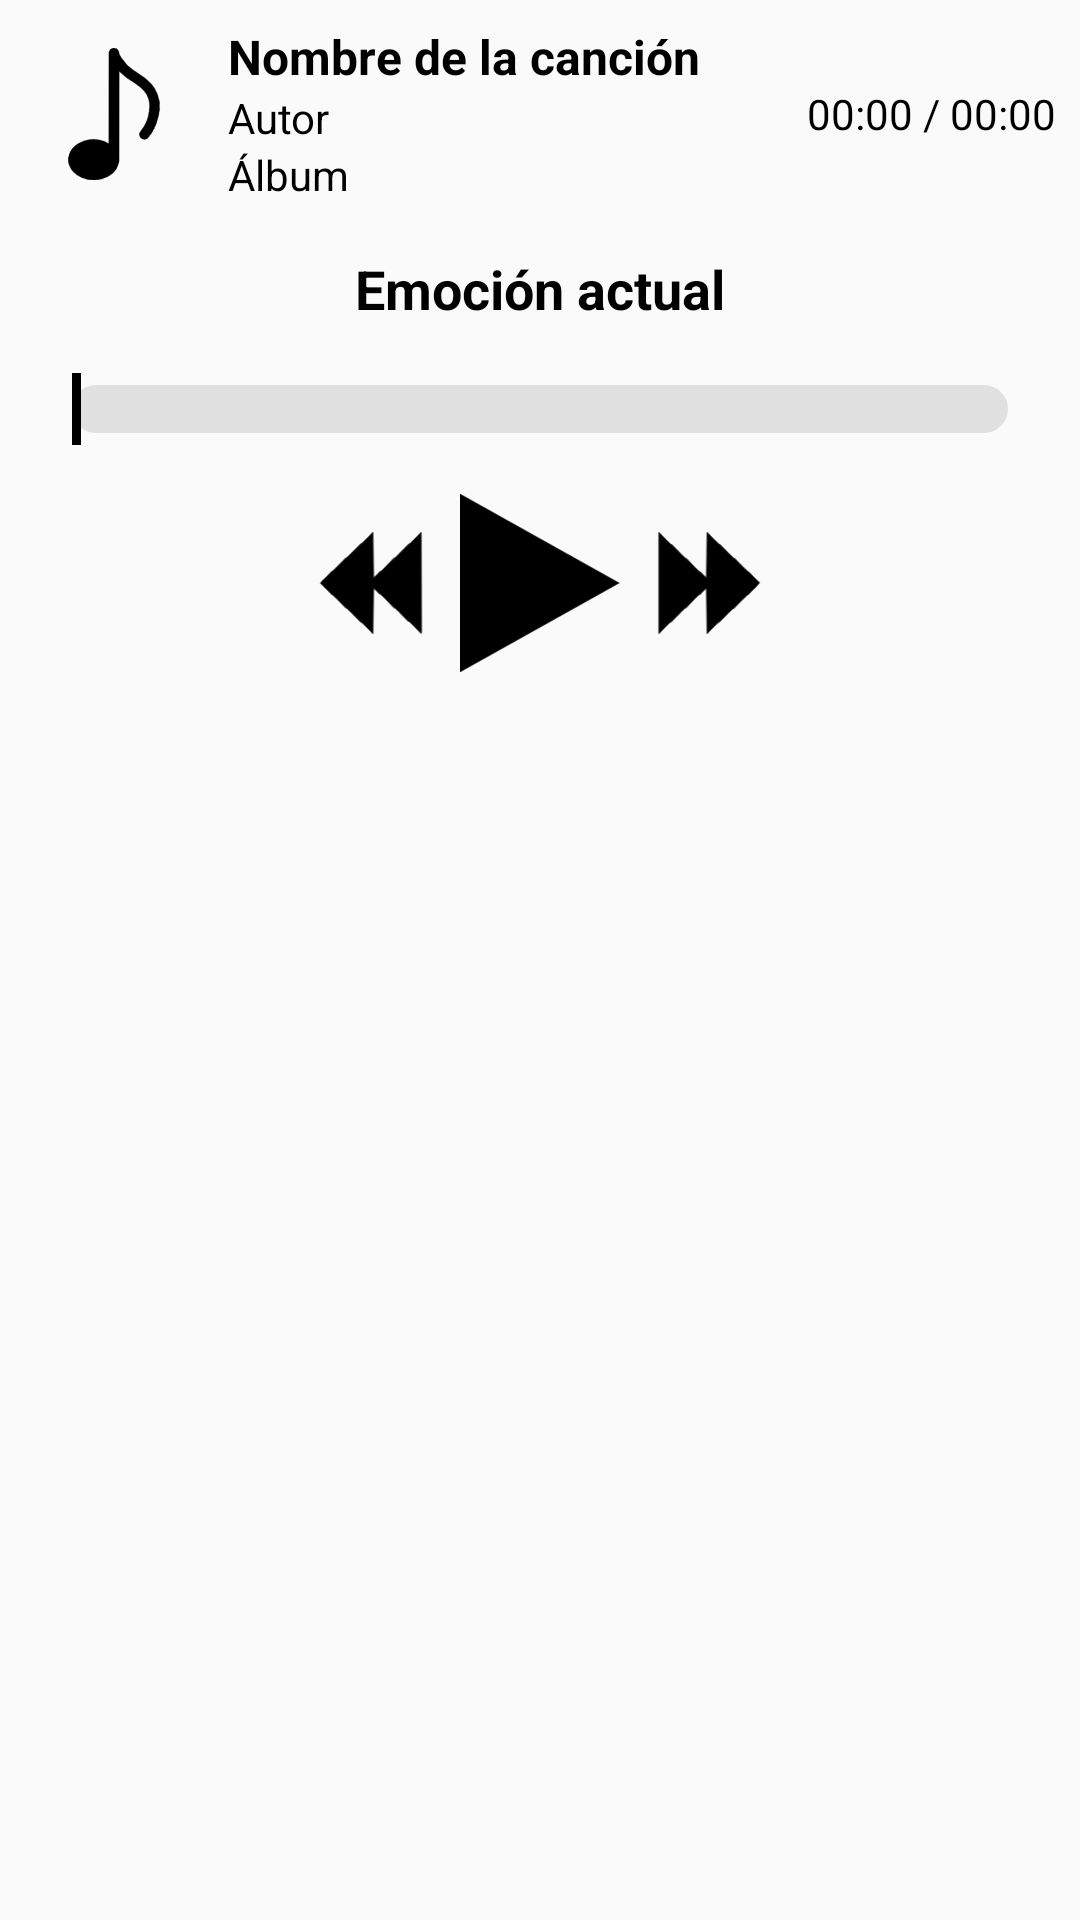

Icon bounding boxes for this 1080 x 1920 phone screenshot, format (x1, y1, x2, y2):
iconoplay: (460, 494, 620, 672)
nota musical: (68, 48, 160, 180)
